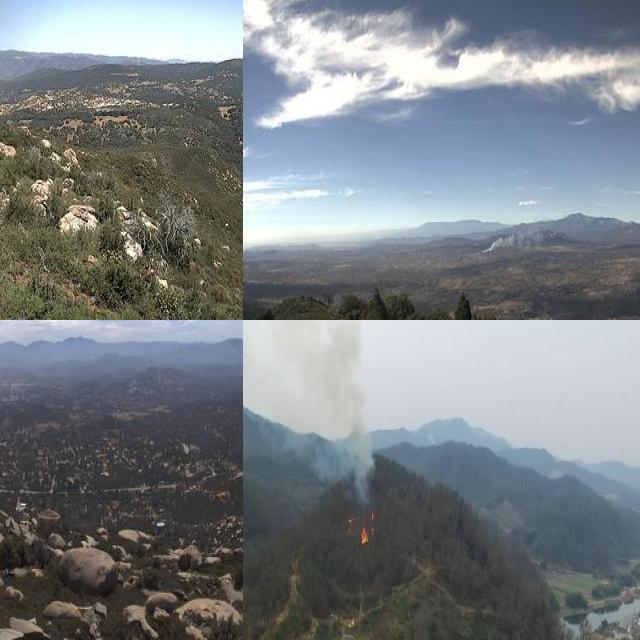fire: (333, 482, 388, 563)
smoke: (243, 320, 373, 490), (476, 220, 559, 256)
